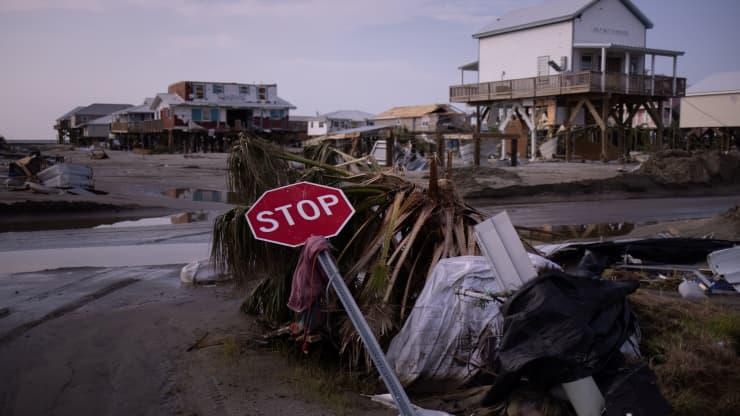affected: (443, 0, 703, 165)
major: (139, 50, 298, 154)
